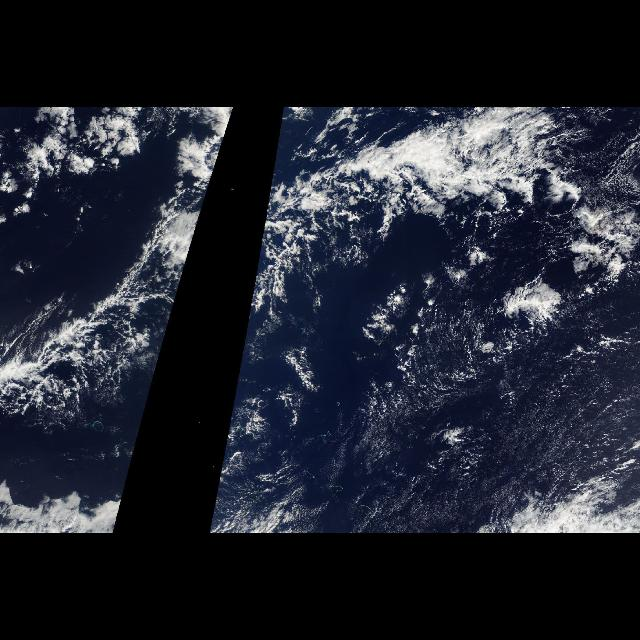Fish: (0, 156, 220, 436), (253, 107, 584, 285)
Gravel: (278, 202, 412, 278)
Sugar: (322, 308, 640, 534)
